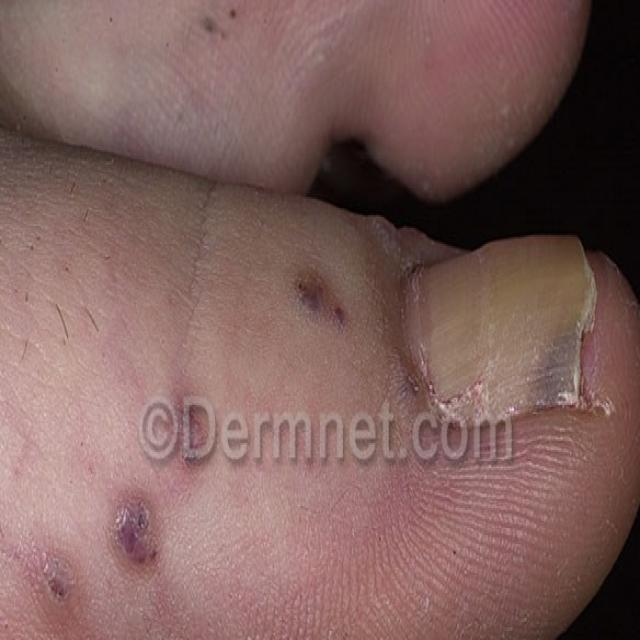Vascular Tumors: (18, 466, 194, 640), (265, 258, 367, 348), (148, 364, 223, 461)
